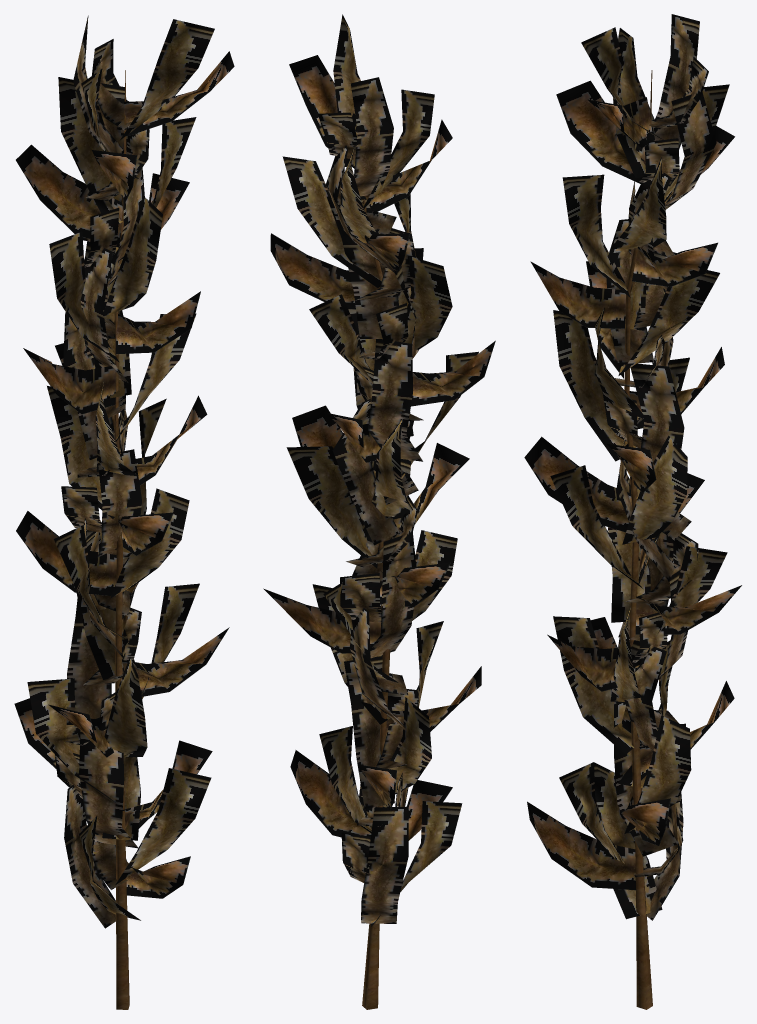
Rendered from SeaWeed06-transformed.glb.
3 views of the same model, side by side, from view 1: azimuth 30°, elevation 25°; view 2: azimuth 150°, elevation 25°; view 3: azimuth 270°, elevation 25° (orthographic). The views are drawn at different scales.
Visible parts, largest first — view 1: SeaWeed06; view 2: SeaWeed06; view 3: SeaWeed06.
Boxes of the visible parts, x1,y1,x2,y2 form: SeaWeed06: (14, 15, 234, 1009); SeaWeed06: (263, 14, 495, 1009); SeaWeed06: (524, 14, 741, 1009).
Bounding box in the file's own units: 0.5588 × 2.61 × 0.5182.
Materials: 1 (1 with a texture image).
